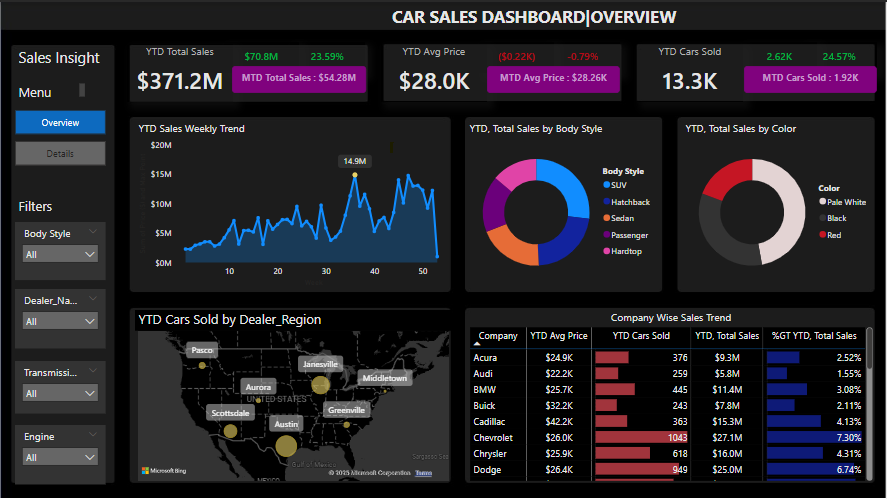

This screenshot's page, from the dashboard's own definition file:
{"tool":"powerbi","page":{"name":"Overview","canvas":[1280,720],"ordinal":0},"visuals":[{"type":"card","title":"YTD Total Sales","fields":{"Values":["car_data.YTD, Total Sales"]},"box":[183.1,60.5,152.9,84],"z":0},{"type":"card","fields":{"Values":["car_data.Sales Difference"]},"box":[324.2,57.1,109.2,45.4],"z":1000},{"type":"card","fields":{"Values":["car_data.YOY Sales Growth"]},"box":[419.9,57.1,109.2,45.4],"z":2000},{"type":"card","fields":{"Values":["car_data.MTD KPI"]},"box":[335.4,92.5,193.7,39],"z":3000},{"type":"card","title":"YTD Avg Price","fields":{"Values":["car_data.YTD Avg Price"]},"box":[551,60.5,152.9,84],"z":4000},{"type":"card","fields":{"Values":["car_data.Avg Price Difference"]},"box":[692.1,57.1,109.2,45.4],"z":5000},{"type":"card","fields":{"Values":["car_data.YOY Avg Price Growth"]},"box":[787.8,57.1,109.2,45.4],"z":6000},{"type":"card","fields":{"Values":["car_data.MTD Avg Price KPI"]},"box":[704.1,92.5,192.3,39],"z":7000},{"type":"card","title":"YTD Cars Sold","fields":{"Values":["car_data.YTD Cars Sold"]},"box":[920.5,60.5,152.9,84],"z":8000},{"type":"card","fields":{"Values":["car_data.Cars Sold Diff"]},"box":[1073.4,57.1,109.2,45.4],"z":9000},{"type":"card","fields":{"Values":["car_data.YOY Cars Sold Growth"]},"box":[1159.1,57.1,109.2,45.4],"z":10000},{"type":"card","fields":{"Values":["car_data.MTD Cars Sold KPI"]},"box":[1075.7,92.5,192.3,39],"z":11000},{"type":"areaChart","title":"YTD Sales Weekly Trend","fields":{"Category":["Calendar Table.Week"],"Y":["Sum(car_data.Price ($))","car_data.Max Point"]},"box":[194.9,171.3,458.6,243.6],"z":12000},{"type":"donutChart","fields":{"Category":["car_data.Body Style"],"Y":["car_data.YTD, Total Sales"]},"box":[673.6,171.3,280.5,243.6],"z":13000},{"type":"donutChart","fields":{"Y":["car_data.YTD, Total Sales"],"Category":["car_data.Color"]},"box":[986,171.3,280.5,243.6],"z":14000},{"type":"tableEx","title":"Company Wise Sales Trend","fields":{"Values":["car_data.Company","car_data.YTD Avg Price","car_data.YTD Cars Sold","car_data.YTD, Total Sales1","car_data.YTD, Total Sales"]},"box":[673.6,445.1,593,252],"z":15000},{"type":"textbox","box":[497.2,0,549.3,42],"z":16000},{"type":"slicer","fields":{"Values":["car_data.Body Style"]},"box":[21.8,317.5,131,84],"z":17000},{"type":"slicer","fields":{"Values":["car_data.Dealer_Name"]},"box":[21.8,414.9,131,85.7],"z":18000},{"type":"slicer","fields":{"Values":["car_data.Transmission"]},"box":[21.8,519.1,131,75.6],"z":19000},{"type":"slicer","fields":{"Values":["car_data.Engine"]},"box":[21.8,611.4,131,85.7],"z":20000},{"type":"textbox","box":[21.8,277.2,95.7,40.3],"z":21000},{"type":"textbox","box":[21.8,60.5,131,68.9],"z":22000},{"type":"textbox","box":[21.8,112.5,105.8,31.9],"z":23000},{"type":"pageNavigator","box":[21.8,156.2,131,80.6],"z":24000},{"type":"map","fields":{"Category":["car_data.Dealer_Region"],"Size":["car_data.YTD Cars Sold"]},"box":[194.9,445.1,458.6,252],"z":25000}]}

Visuals, with their boxes in screenshot pixels (x1, y1, x2, y2), scaled from the page's 1280x720 canvas onto the 887x499 screenshot:
"YTD Total Sales" card: BBox(127, 42, 233, 100)
card - car_data.Sales Difference: BBox(225, 40, 300, 71)
card - car_data.YOY Sales Growth: BBox(291, 40, 367, 71)
card - car_data.MTD KPI: BBox(232, 64, 367, 91)
"YTD Avg Price" card: BBox(382, 42, 488, 100)
card - car_data.Avg Price Difference: BBox(480, 40, 555, 71)
card - car_data.YOY Avg Price Growth: BBox(546, 40, 622, 71)
card - car_data.MTD Avg Price KPI: BBox(488, 64, 621, 91)
"YTD Cars Sold" card: BBox(638, 42, 744, 100)
card - car_data.Cars Sold Diff: BBox(744, 40, 820, 71)
card - car_data.YOY Cars Sold Growth: BBox(803, 40, 879, 71)
card - car_data.MTD Cars Sold KPI: BBox(745, 64, 879, 91)
"YTD Sales Weekly Trend" areaChart: BBox(135, 119, 453, 288)
donutChart - car_data.Body Style x car_data.YTD, Total Sales: BBox(467, 119, 661, 288)
donutChart - car_data.YTD, Total Sales x car_data.Color: BBox(683, 119, 878, 288)
"Company Wise Sales Trend" tableEx: BBox(467, 308, 878, 483)
textbox: BBox(345, 0, 725, 29)
slicer - car_data.Body Style: BBox(15, 220, 106, 278)
slicer - car_data.Dealer_Name: BBox(15, 288, 106, 347)
slicer - car_data.Transmission: BBox(15, 360, 106, 412)
slicer - car_data.Engine: BBox(15, 424, 106, 483)
textbox: BBox(15, 192, 81, 220)
textbox: BBox(15, 42, 106, 90)
textbox: BBox(15, 78, 88, 100)
pageNavigator: BBox(15, 108, 106, 164)
map - car_data.Dealer_Region x car_data.YTD Cars Sold: BBox(135, 308, 453, 483)
